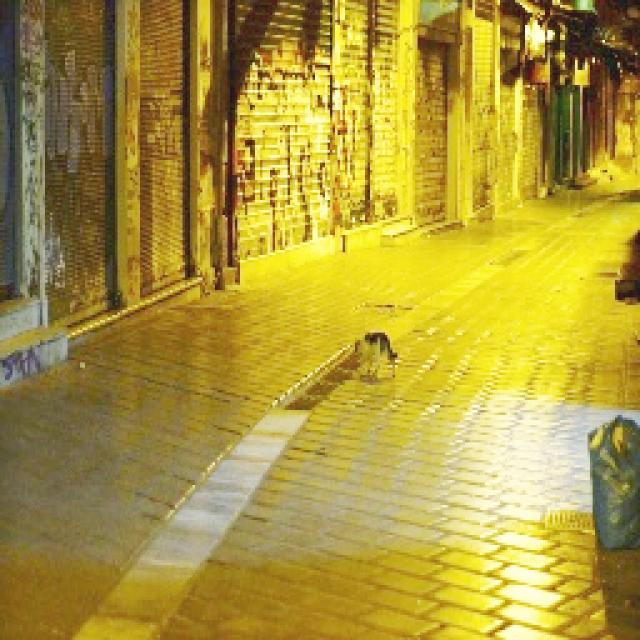cat: (355, 328, 402, 379)
